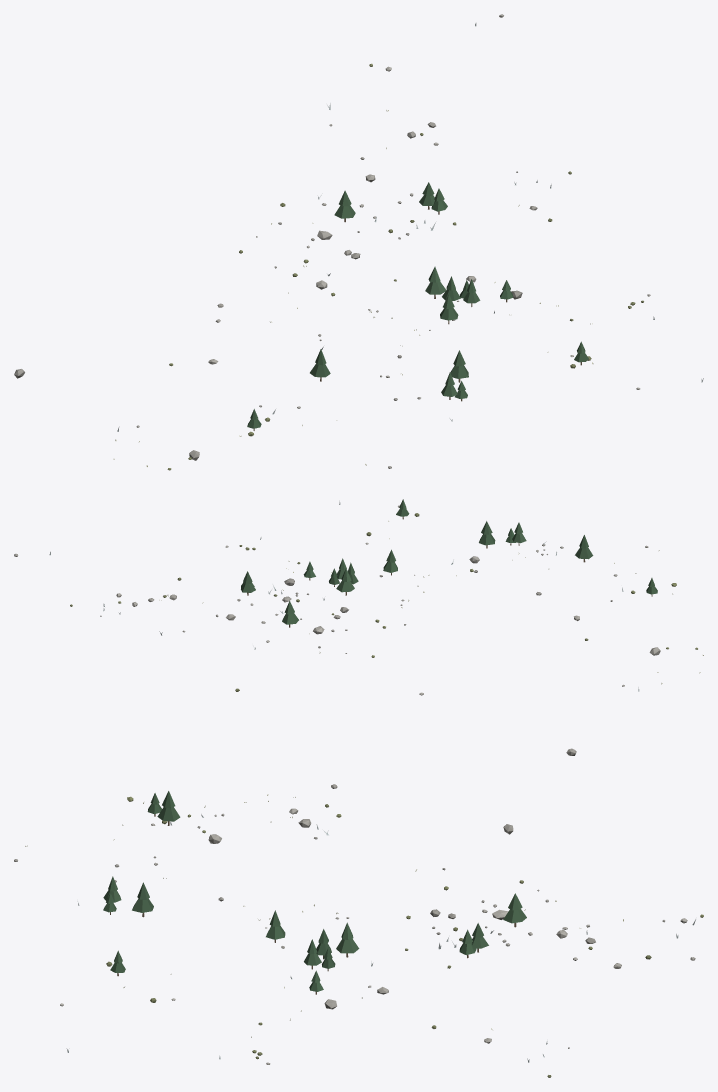
File: coast_land_scatter_c10_18_lod1.glb
3 renders of one model, top to bottom at view 1: azimuth 30°, elevation 25°; view 2: azimuth 150°, elevation 25°; view 3: azimuth 270°, elevation 25°, orthographic. The views are drawn at different scales.
Visible parts, largest first — view 1: coast_land_scatter_c10_18_lod1; view 2: coast_land_scatter_c10_18_lod1; view 3: coast_land_scatter_c10_18_lod1.
Boxes of the visible parts, x1=… form: coast_land_scatter_c10_18_lod1: x1=14, y1=14, x2=703, y2=470; coast_land_scatter_c10_18_lod1: x1=14, y1=499, x2=703, y2=755; coast_land_scatter_c10_18_lod1: x1=14, y1=784, x2=703, y2=1077.
Size of the model in its own units: 250 by 66.94 by 232.
